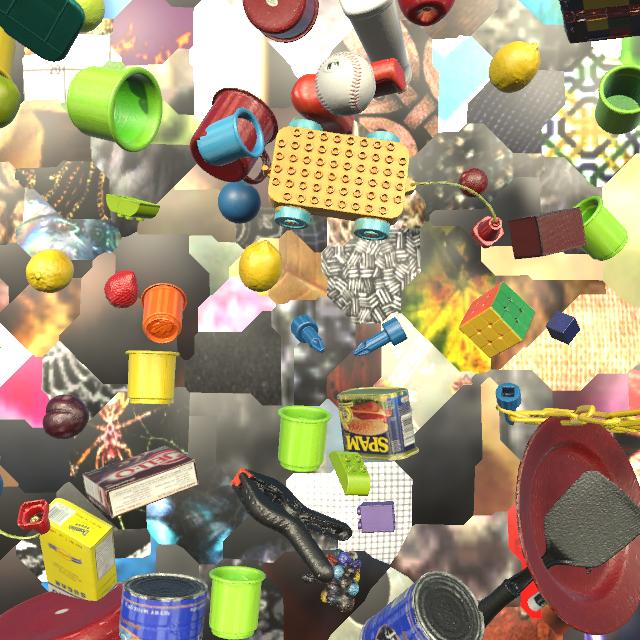ycb_002_master_chef_can: (359, 571, 485, 640), (119, 573, 208, 640)
ycb_004_sugar_box: (39, 498, 117, 601), (0, 345, 1, 349)
ycb_008_pudding_box: (82, 446, 199, 519)
ycb_010_potted_meat_can: (337, 387, 419, 461)
ycb_012_strawberry: (104, 270, 139, 308)
ycb_013_apple: (397, 0, 455, 26)
ycb_014_lemon: (488, 41, 541, 93), (238, 240, 283, 292), (26, 249, 74, 293)
ycb_016_pear: (0, 75, 21, 129)
ycb_018_plum: (42, 394, 89, 439)
